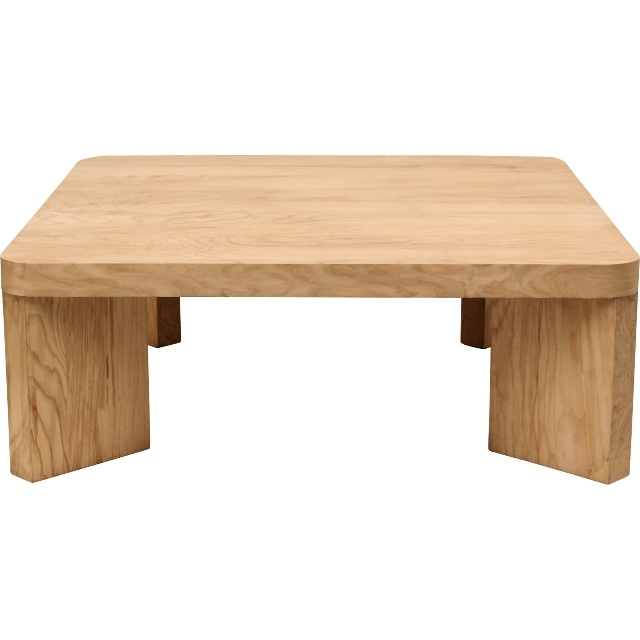obstacle: (2, 156, 638, 483)
